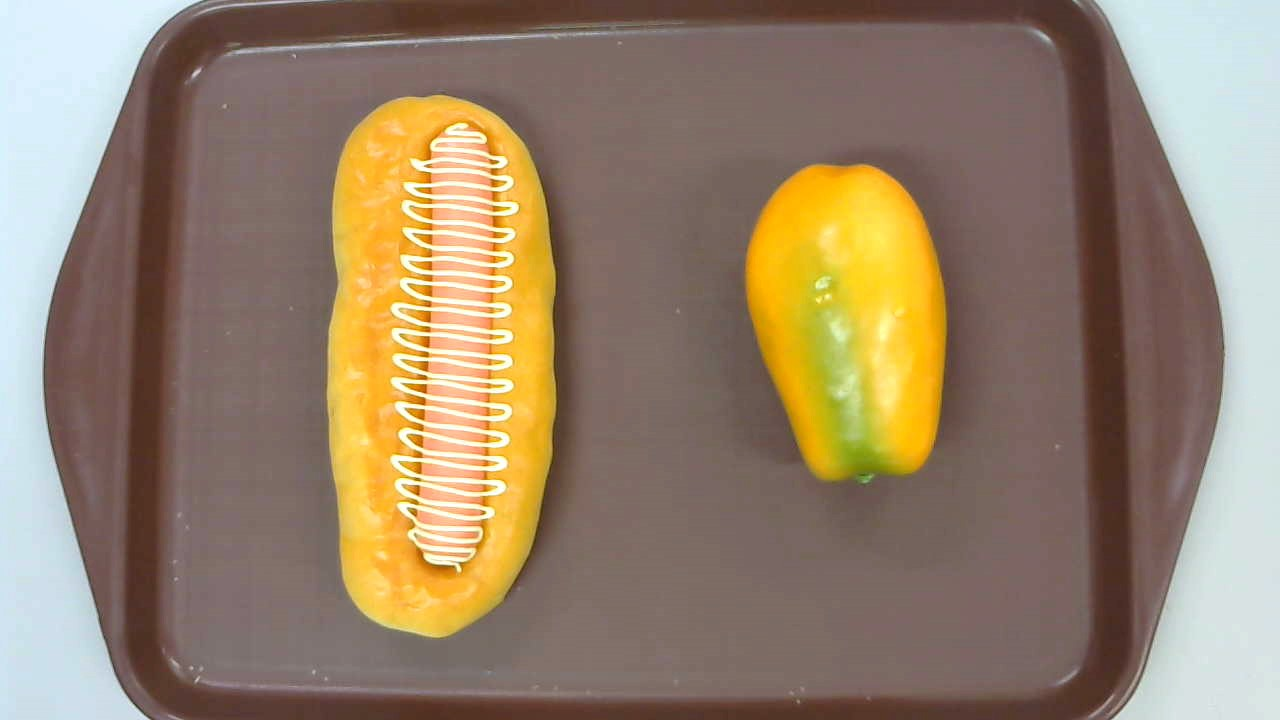hot dog: (326, 94, 557, 638)
papya: (745, 162, 947, 485)
